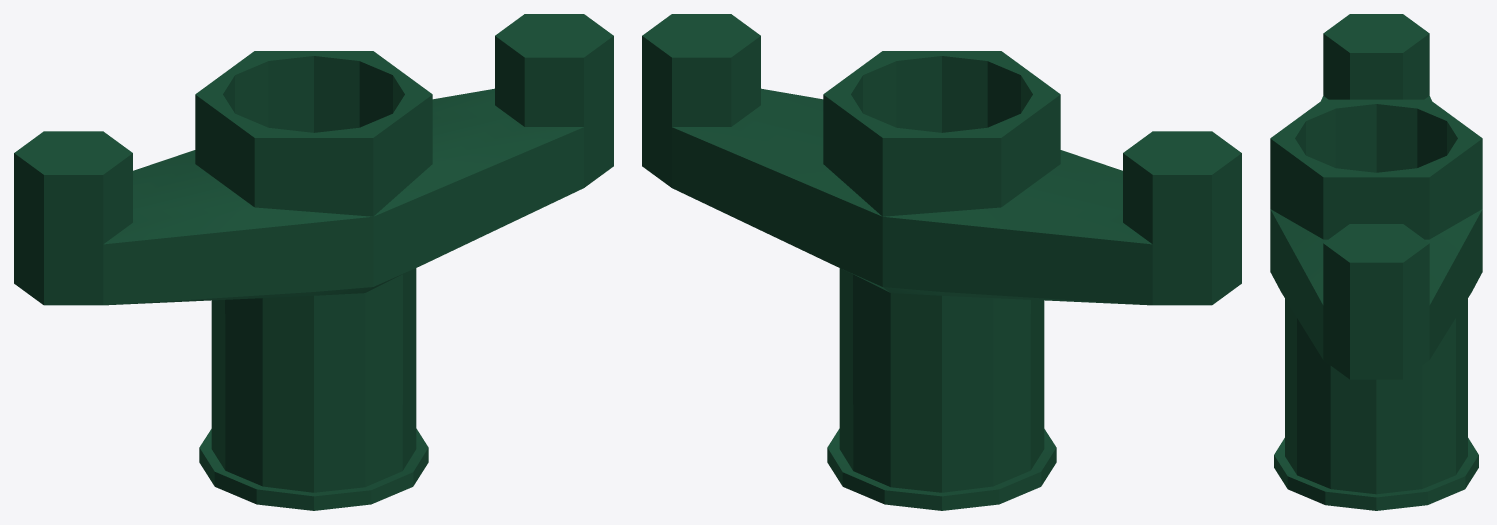
Rendered from wingnut.fbx.
The picture shows the model from 3 angles, left to right: view 1: azimuth 30°, elevation 25°; view 2: azimuth 150°, elevation 25°; view 3: azimuth 270°, elevation 25°; orthographic projection. The views are drawn at different scales.
Visible parts, largest first — view 1: Circle; view 2: Circle; view 3: Circle.
Part boxes in pixels (x1=…): Circle: x1=14, y1=14, x2=613, y2=510; Circle: x1=642, y1=14, x2=1241, y2=510; Circle: x1=1270, y1=14, x2=1482, y2=510.
Size of the model in its own units: 46.37 by 128 by 79.29.
